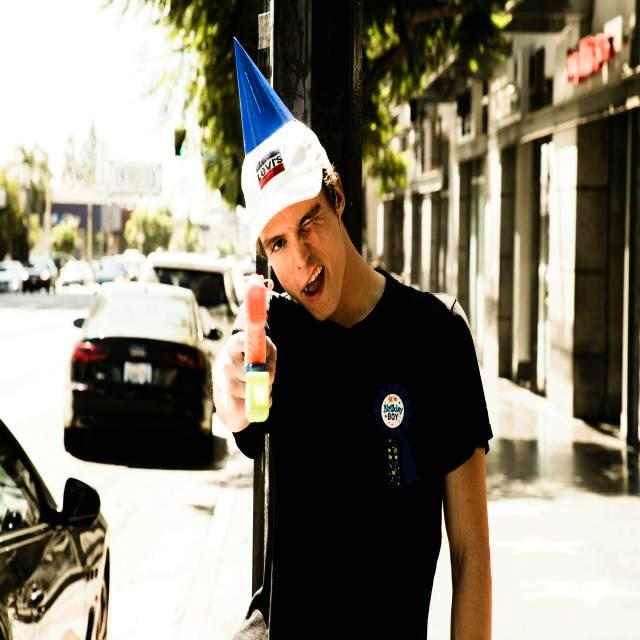no_hard_hat: (242, 118, 332, 247), (234, 38, 293, 154)
person: (214, 132, 495, 639)
